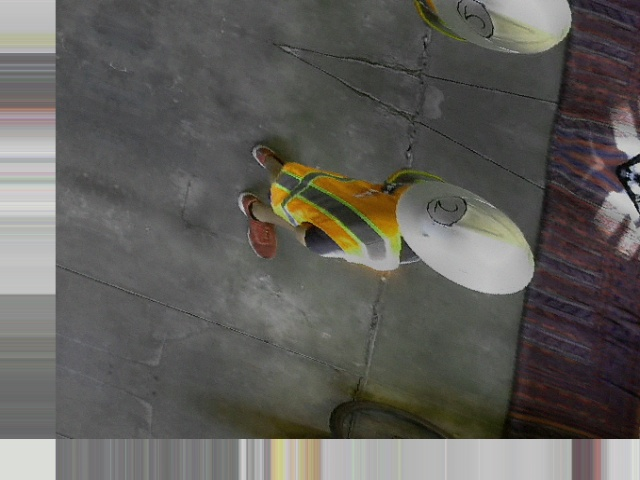two: (424, 185, 468, 234)
